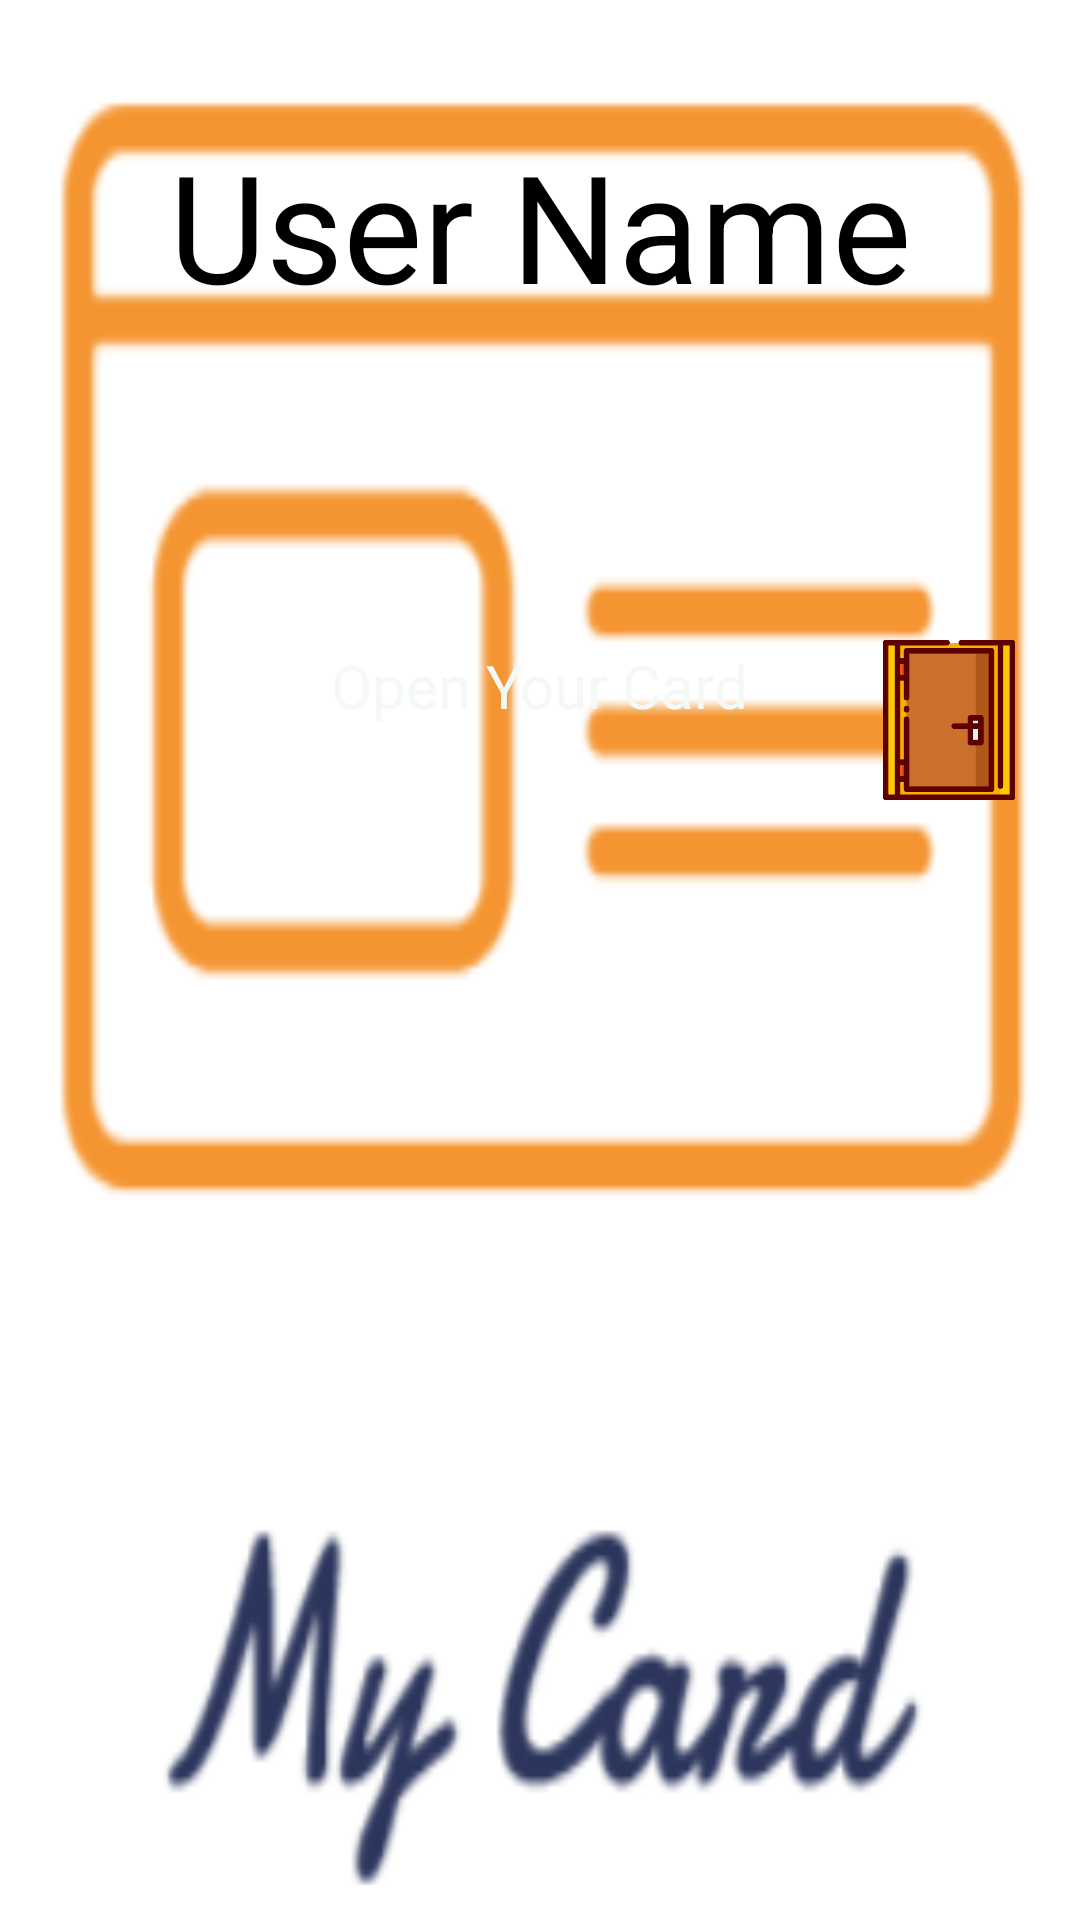

Icon click points for this 1080x1920 phone screenshot, format (x=x, y=y):
door: (x=949, y=720)
